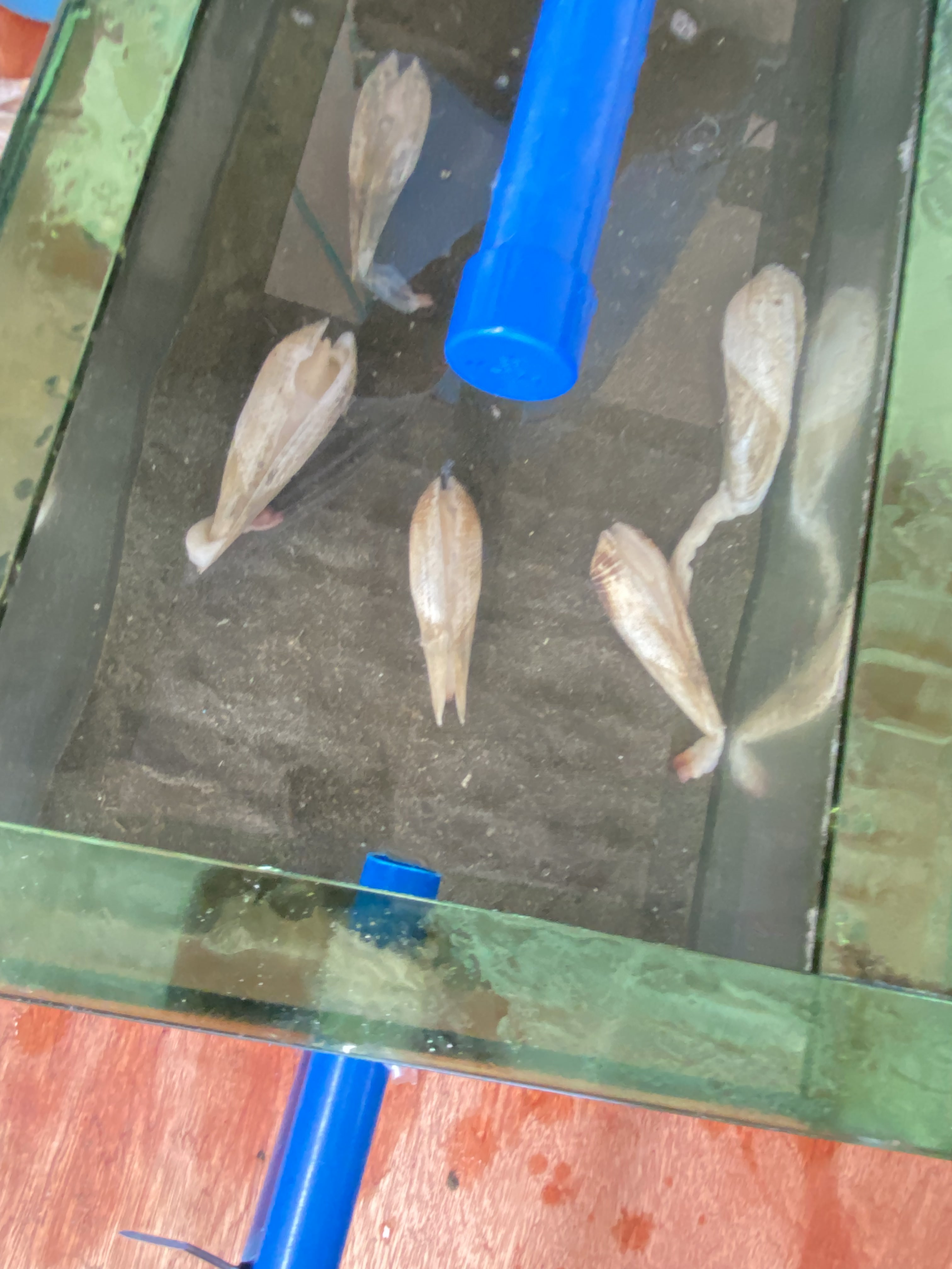At risk: (671, 264, 805, 605), (186, 319, 356, 571), (590, 522, 725, 782), (348, 51, 433, 313), (409, 464, 482, 725)
